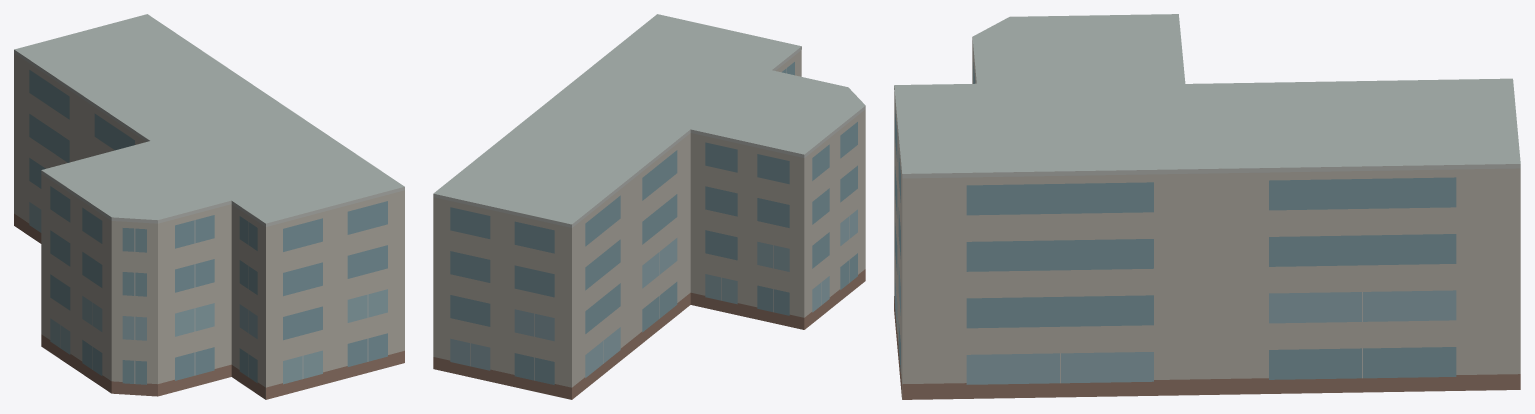
The model's file is residential-c0a92a8c-72b1-459b-8b1a-c7e157a62963.glb.
The picture shows the model from 3 angles, left to right: view 1: azimuth 30°, elevation 25°; view 2: azimuth 150°, elevation 25°; view 3: azimuth 270°, elevation 25°; orthographic projection. The views are drawn at different scales.
Visible parts, largest first — view 1: residential-c0a92a8c-72b1-459b-8b1a-c7e157a62963.tmp; view 2: residential-c0a92a8c-72b1-459b-8b1a-c7e157a62963.tmp; view 3: residential-c0a92a8c-72b1-459b-8b1a-c7e157a62963.tmp.
Part boxes in pixels (box(x1,y1,x2,y2)): residential-c0a92a8c-72b1-459b-8b1a-c7e157a62963.tmp: box(14, 14, 404, 399); residential-c0a92a8c-72b1-459b-8b1a-c7e157a62963.tmp: box(433, 14, 865, 399); residential-c0a92a8c-72b1-459b-8b1a-c7e157a62963.tmp: box(894, 14, 1520, 399).
Bounding box in the file's own units: 18.53 × 12.2 × 30.67.
